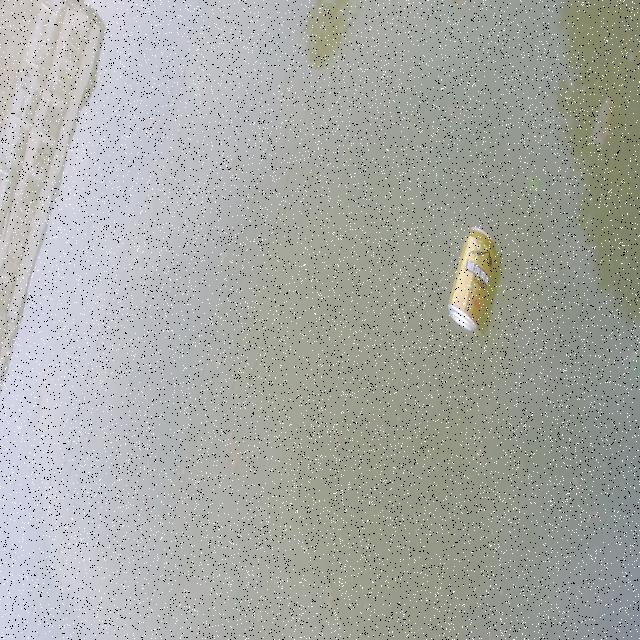Can: (445, 218, 498, 340)
